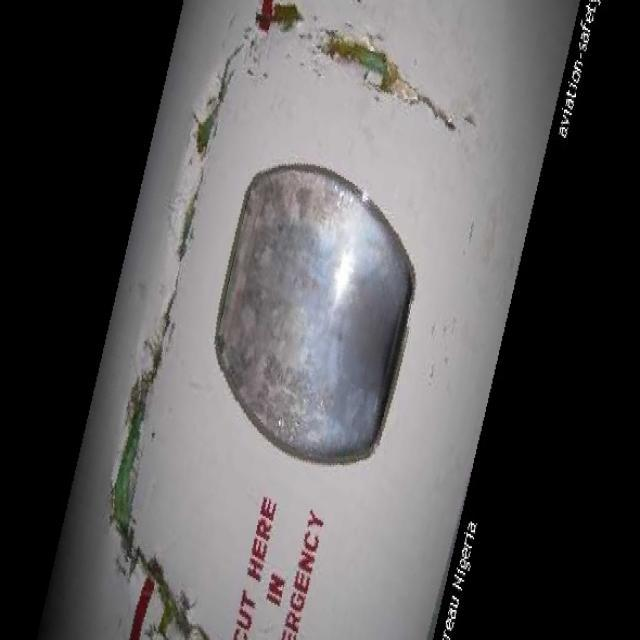crack: (110, 41, 248, 640), (319, 31, 458, 134), (274, 5, 306, 37)
